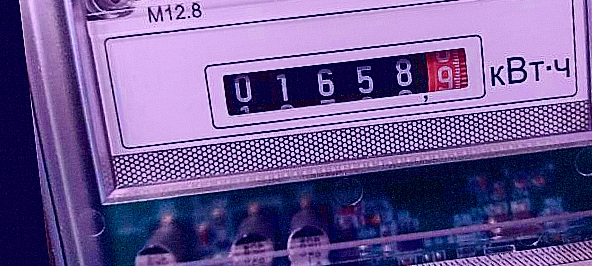0: (230, 70, 255, 105)
1: (274, 70, 291, 103)
5: (354, 62, 376, 96)
6: (314, 65, 337, 98)
8: (392, 55, 415, 89)
9: (433, 63, 454, 90)
screen: (195, 24, 493, 135)
